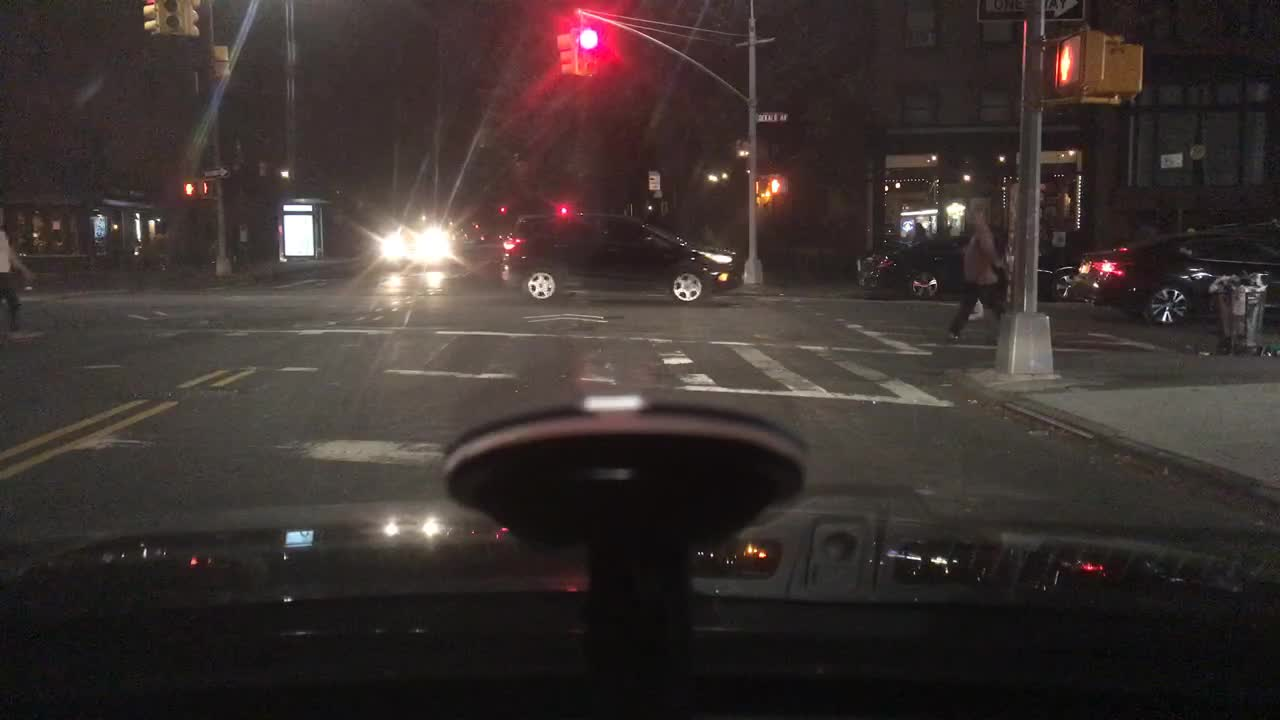car: (494, 208, 742, 304), (1070, 214, 1279, 326), (852, 231, 1076, 302), (382, 221, 454, 261), (470, 222, 503, 243), (452, 225, 470, 241), (498, 228, 513, 240)
person: (942, 202, 1009, 343), (2, 222, 36, 330), (232, 213, 252, 267), (1132, 213, 1157, 241), (908, 221, 931, 243)
traffic light: (1053, 31, 1145, 106), (144, 2, 200, 37), (557, 24, 590, 78), (757, 171, 788, 199), (183, 176, 209, 199), (578, 23, 599, 49)
traffic sign: (977, 1, 1089, 26), (754, 109, 787, 124), (645, 167, 662, 191)
